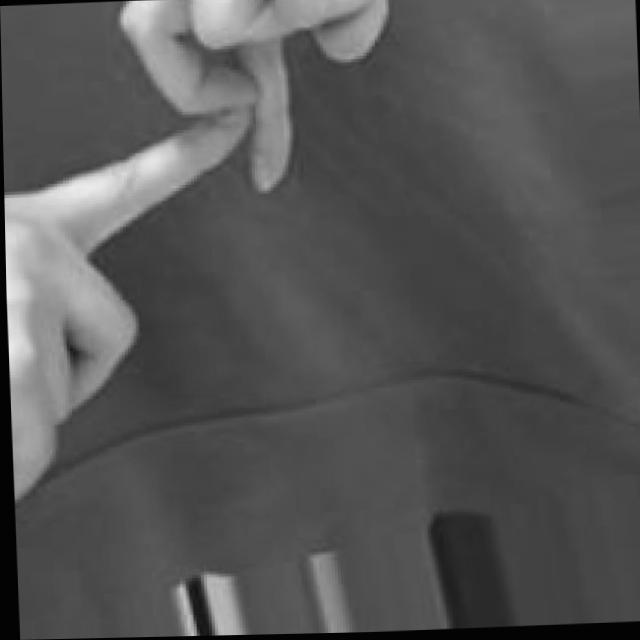R: (0, 0, 420, 508)
